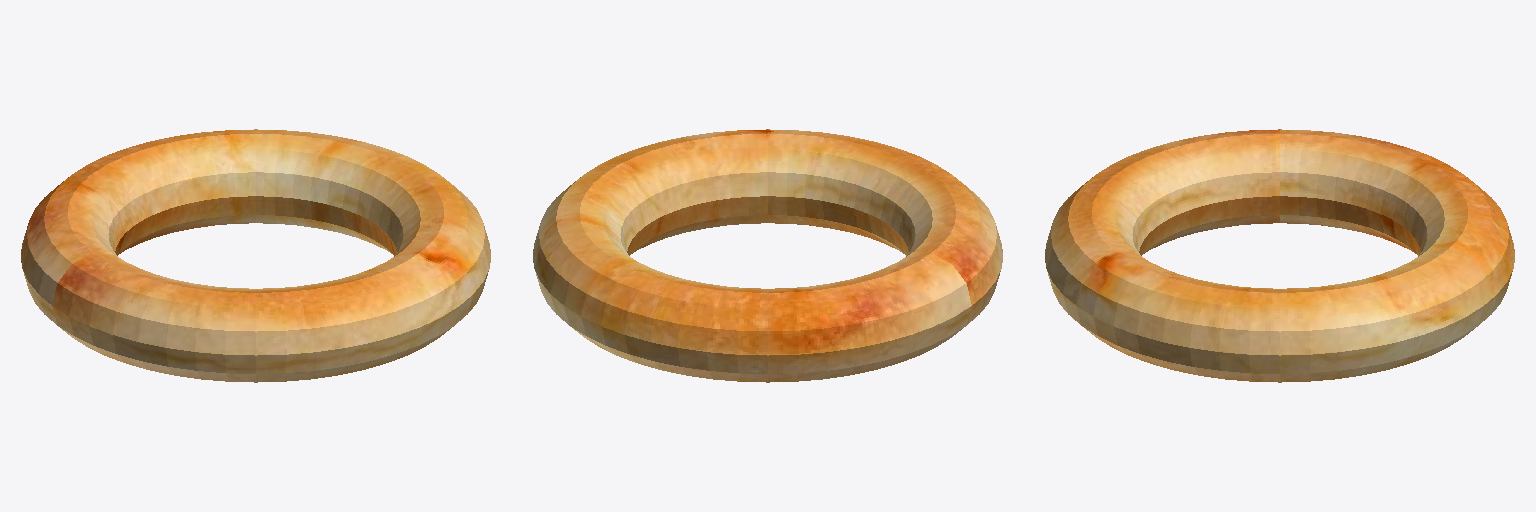
3 views of the same model, side by side, from view 1: azimuth 30°, elevation 25°; view 2: azimuth 150°, elevation 25°; view 3: azimuth 270°, elevation 25° (orthographic).
Visible parts, largest first — view 1: Torus; view 2: Torus; view 3: Torus.
Part boxes in pixels (x1,y1,x2,y2): Torus: (21, 129, 490, 382); Torus: (533, 129, 1002, 382); Torus: (1045, 129, 1514, 382).
Bounding box in the file's own units: 2.5 × 0.5 × 2.5.
Materials: 1 (1 with a texture image).